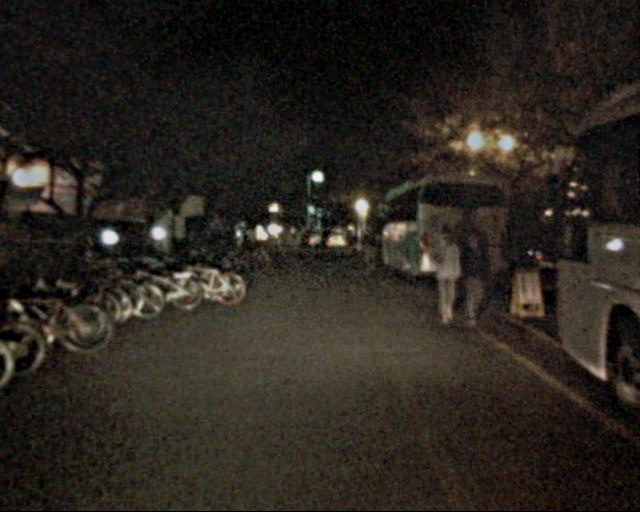person: (424, 226, 465, 325), (451, 229, 489, 322), (356, 225, 379, 280)
